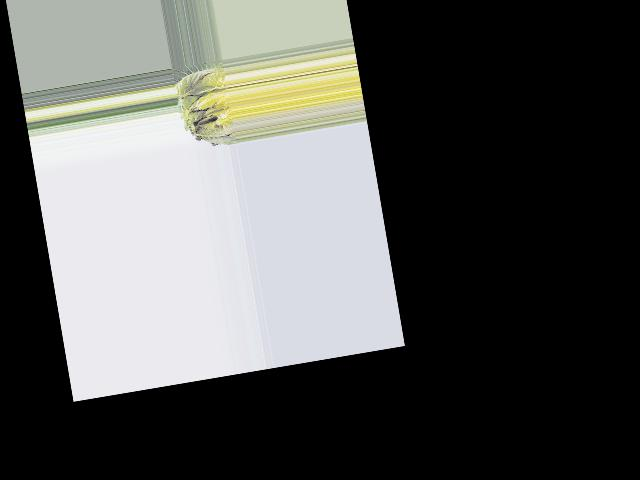lettuce: (173, 59, 237, 149)
